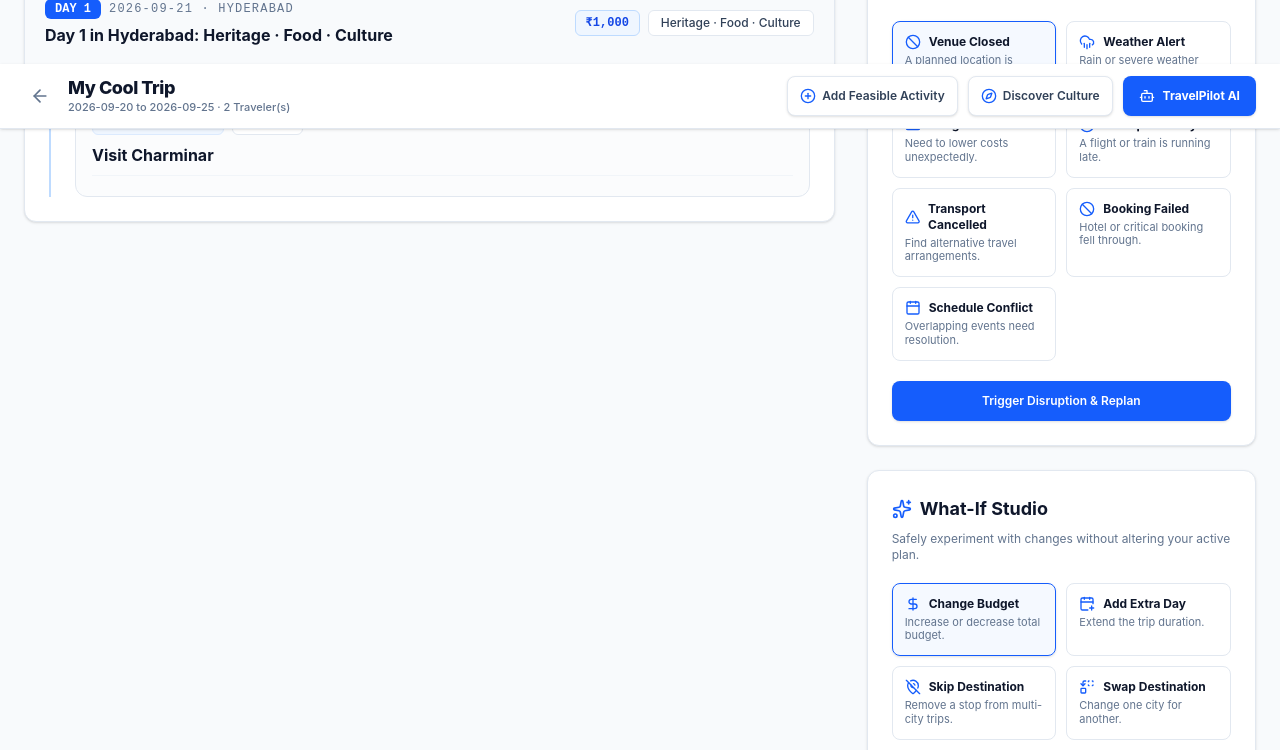
Trip Dashboard › C. Disruption proposal appears and reject leaves trip unchanged
(page scrolled)
Expected: the heading "My Cool Trip" is shown, [68,76,175,98]
Click the button "Trigger Disruption & Replan" at (1061, 400), box [892,380,1231,420]
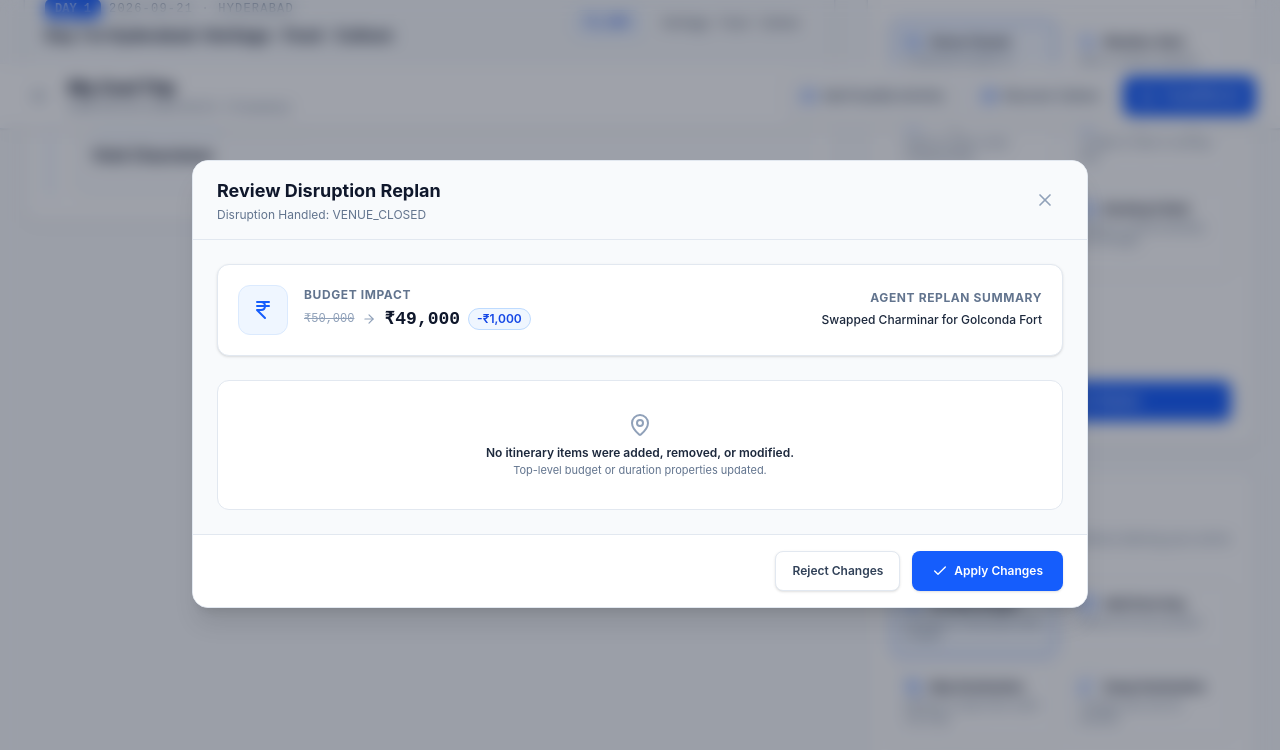
Expected: the heading "Review Disruption Replan" is shown, [217,177,441,205]
Click the button "Reject Changes" at (838, 571), box [776,551,900,591]
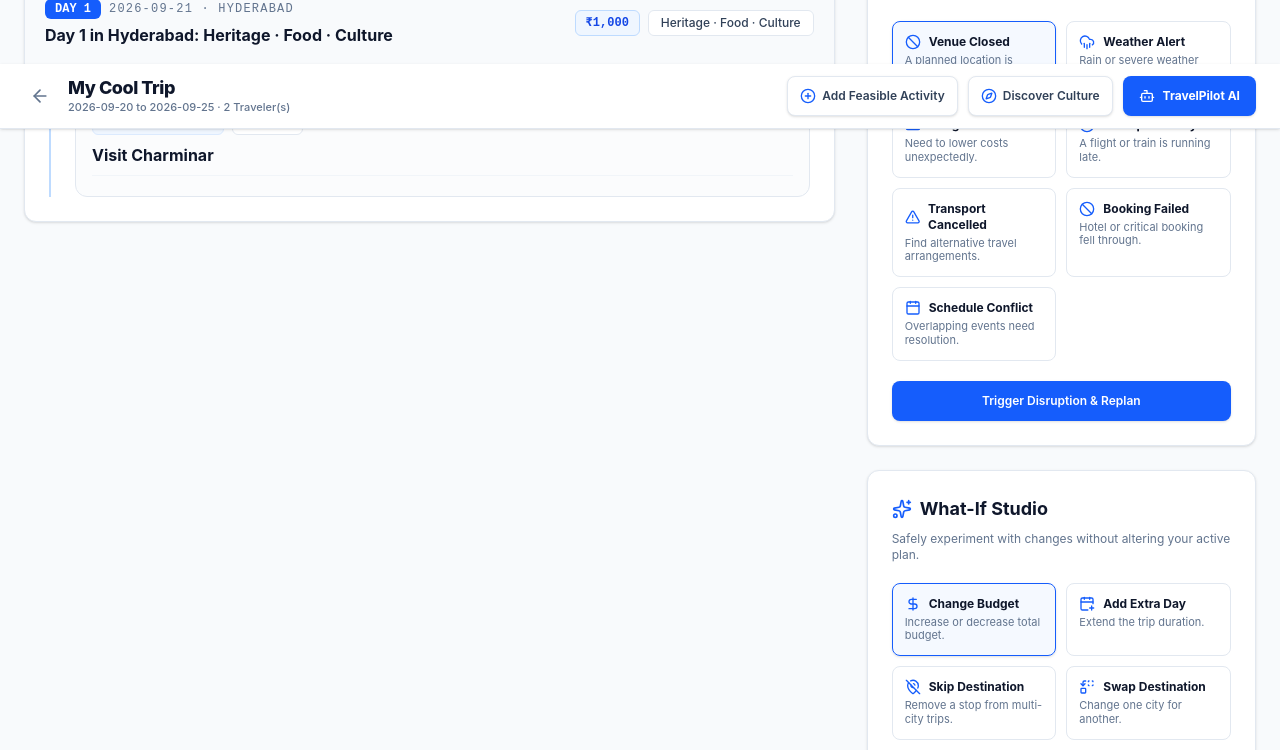
Expected: the heading "Review Disruption Replan" is gone
